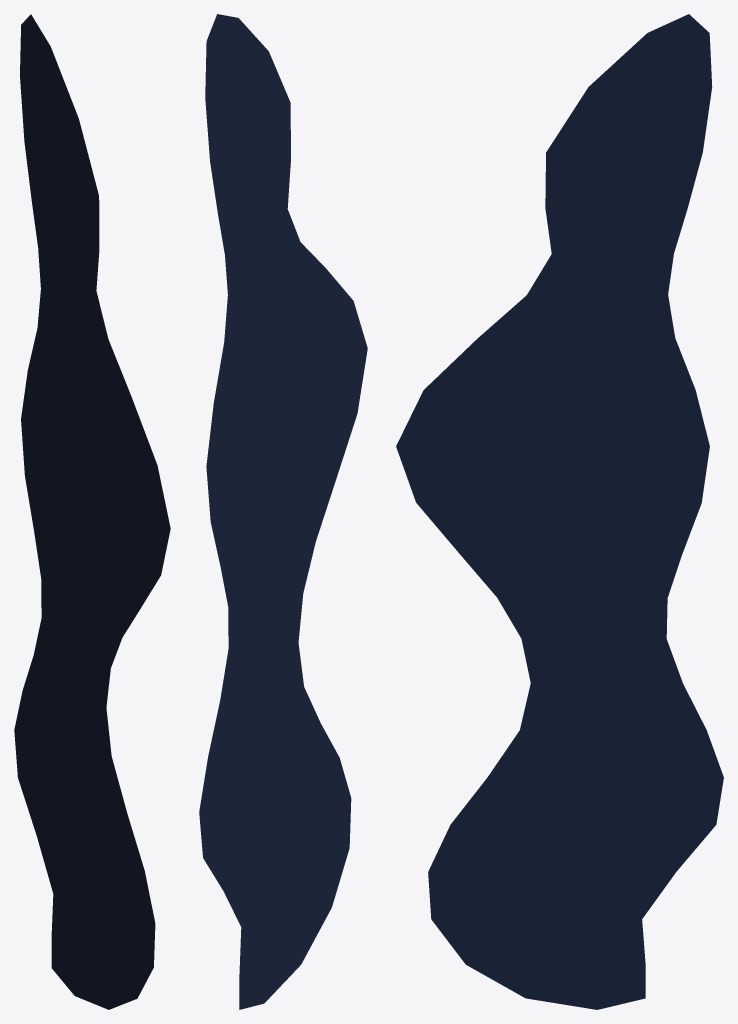
File: M_Prop_TallKelp1.fbx
3 renders of one model, left to right at view 1: azimuth 30°, elevation 25°; view 2: azimuth 150°, elevation 25°; view 3: azimuth 270°, elevation 25°, orthographic. The views are drawn at different scales.
Visible parts, largest first — view 1: tallkelp; view 2: tallkelp; view 3: tallkelp.
Part boxes in pixels (box(x1,y1,x2,y2)): tallkelp: box(14, 14, 170, 1009); tallkelp: box(199, 14, 367, 1009); tallkelp: box(396, 14, 723, 1009).
Size of the model in its own units: 0.000363 by 1351 by 4528.
